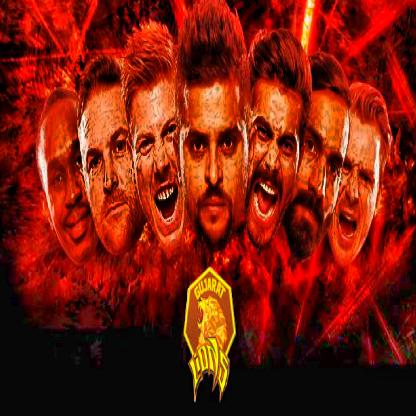Gujarat lions: (184, 264, 237, 405)
